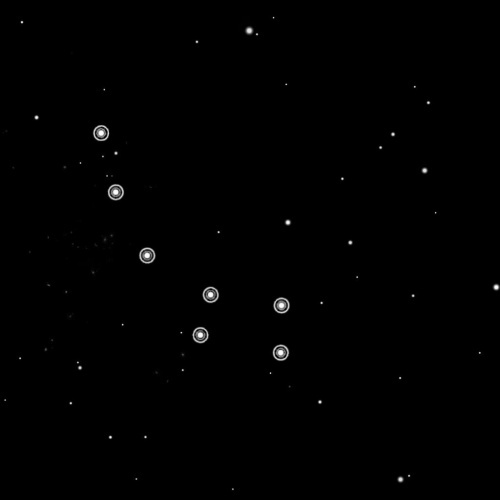ursa_minor: (87, 119, 300, 366)
